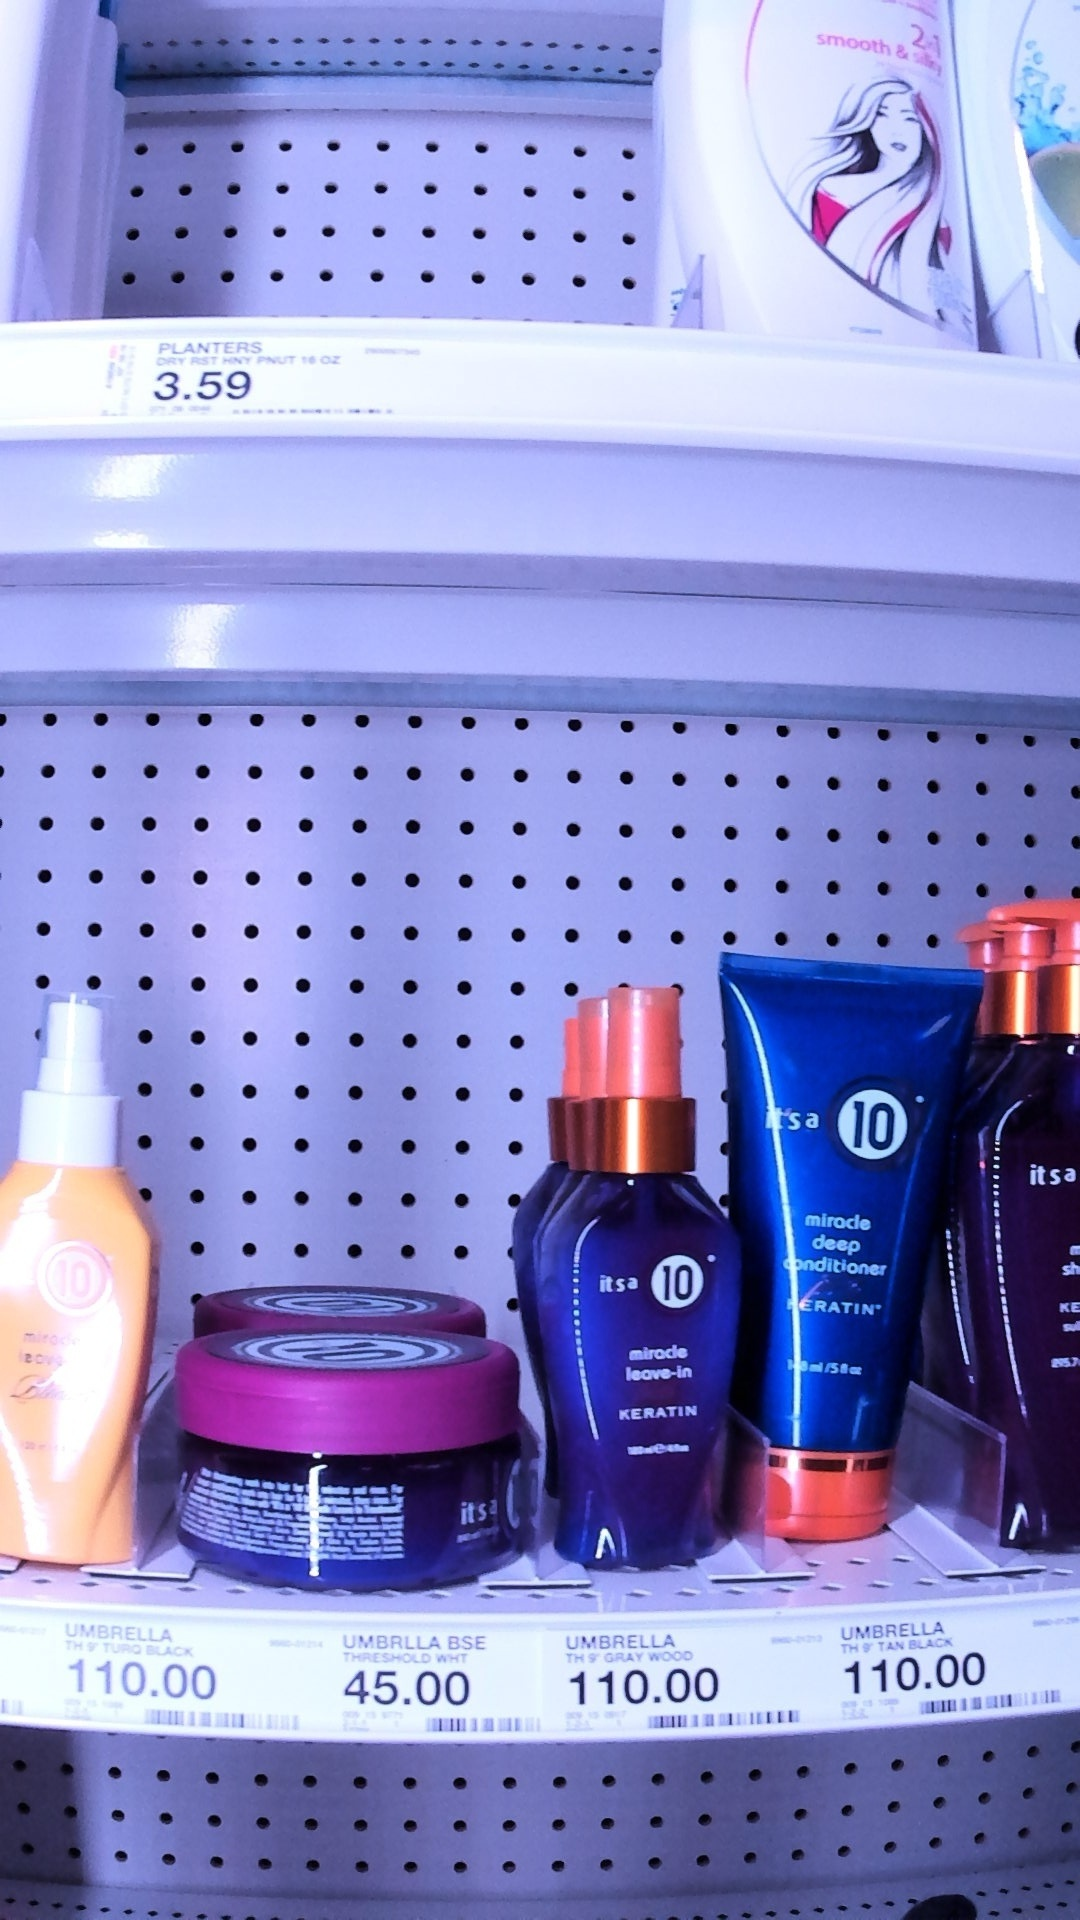ptag: (100, 322, 440, 433), (331, 1606, 538, 1756), (61, 1606, 289, 1742), (555, 1625, 795, 1745), (831, 1611, 1064, 1731)
